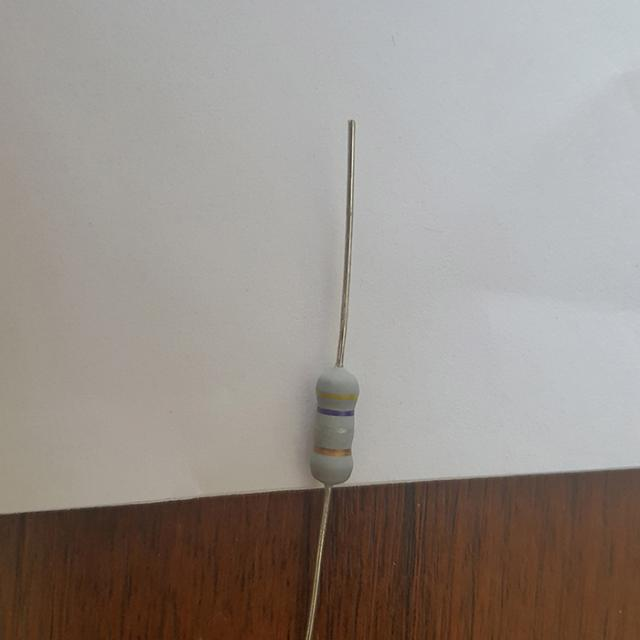Resistor Carbon-Film: (308, 368, 360, 484)
